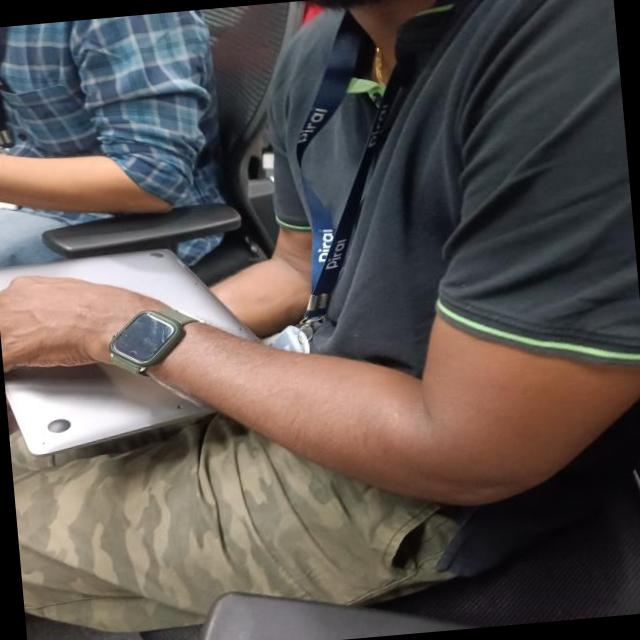id_card: (236, 8, 443, 354)
